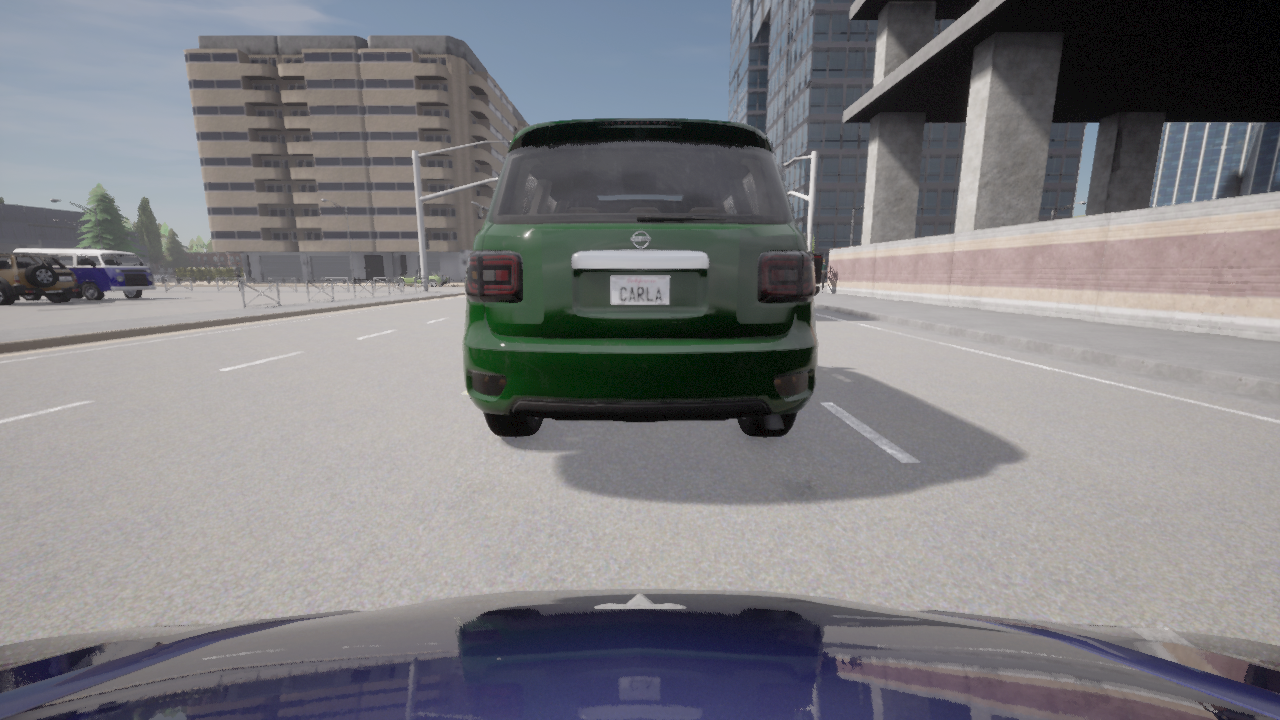cyclist: (0, 588, 1279, 719), (463, 118, 817, 436), (13, 249, 155, 300), (394, 270, 447, 287), (809, 252, 822, 295)
pedestrian: (820, 257, 828, 293), (233, 261, 241, 289)
